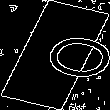O_W: (9, 26, 101, 84)
